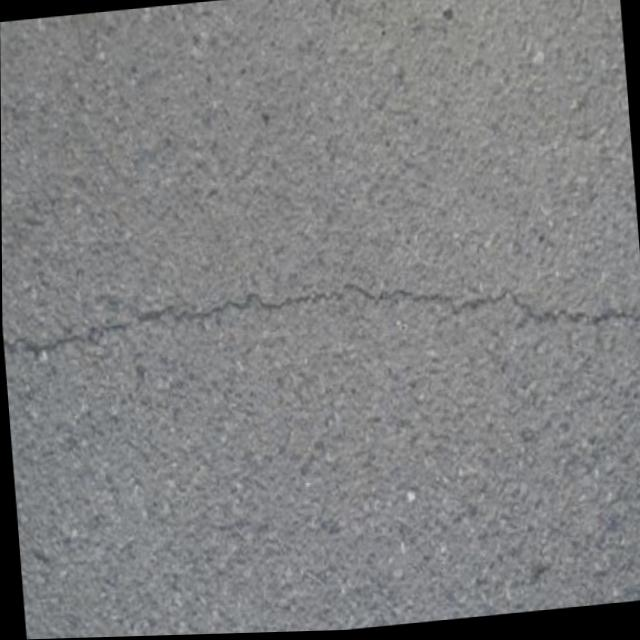Crack: (6, 256, 640, 413)
